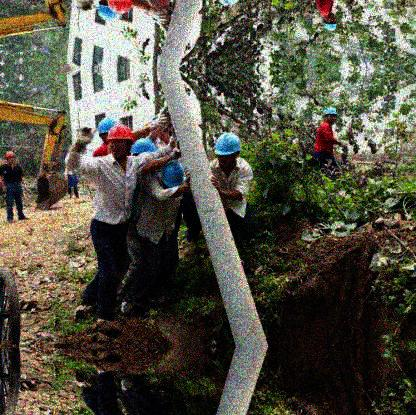helmet: (106, 124, 135, 157), (214, 133, 241, 165), (324, 106, 337, 124), (323, 16, 337, 32), (4, 151, 16, 165)
